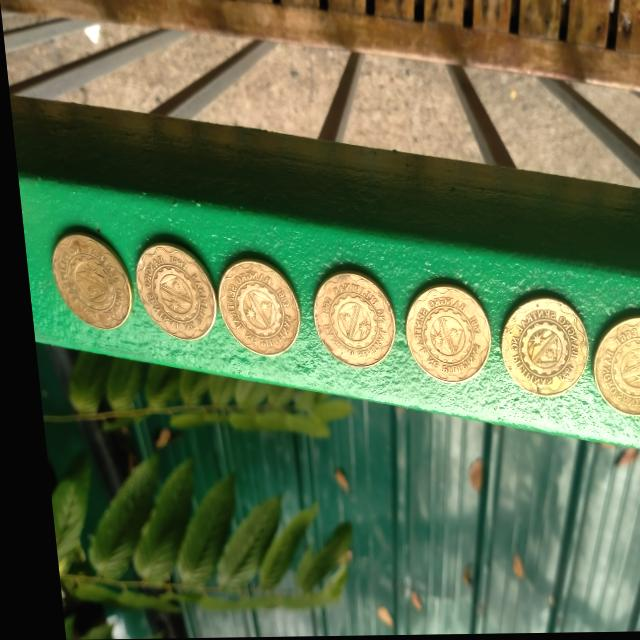5_Old_Back: (499, 308, 578, 395), (128, 245, 203, 334), (314, 281, 388, 365)
